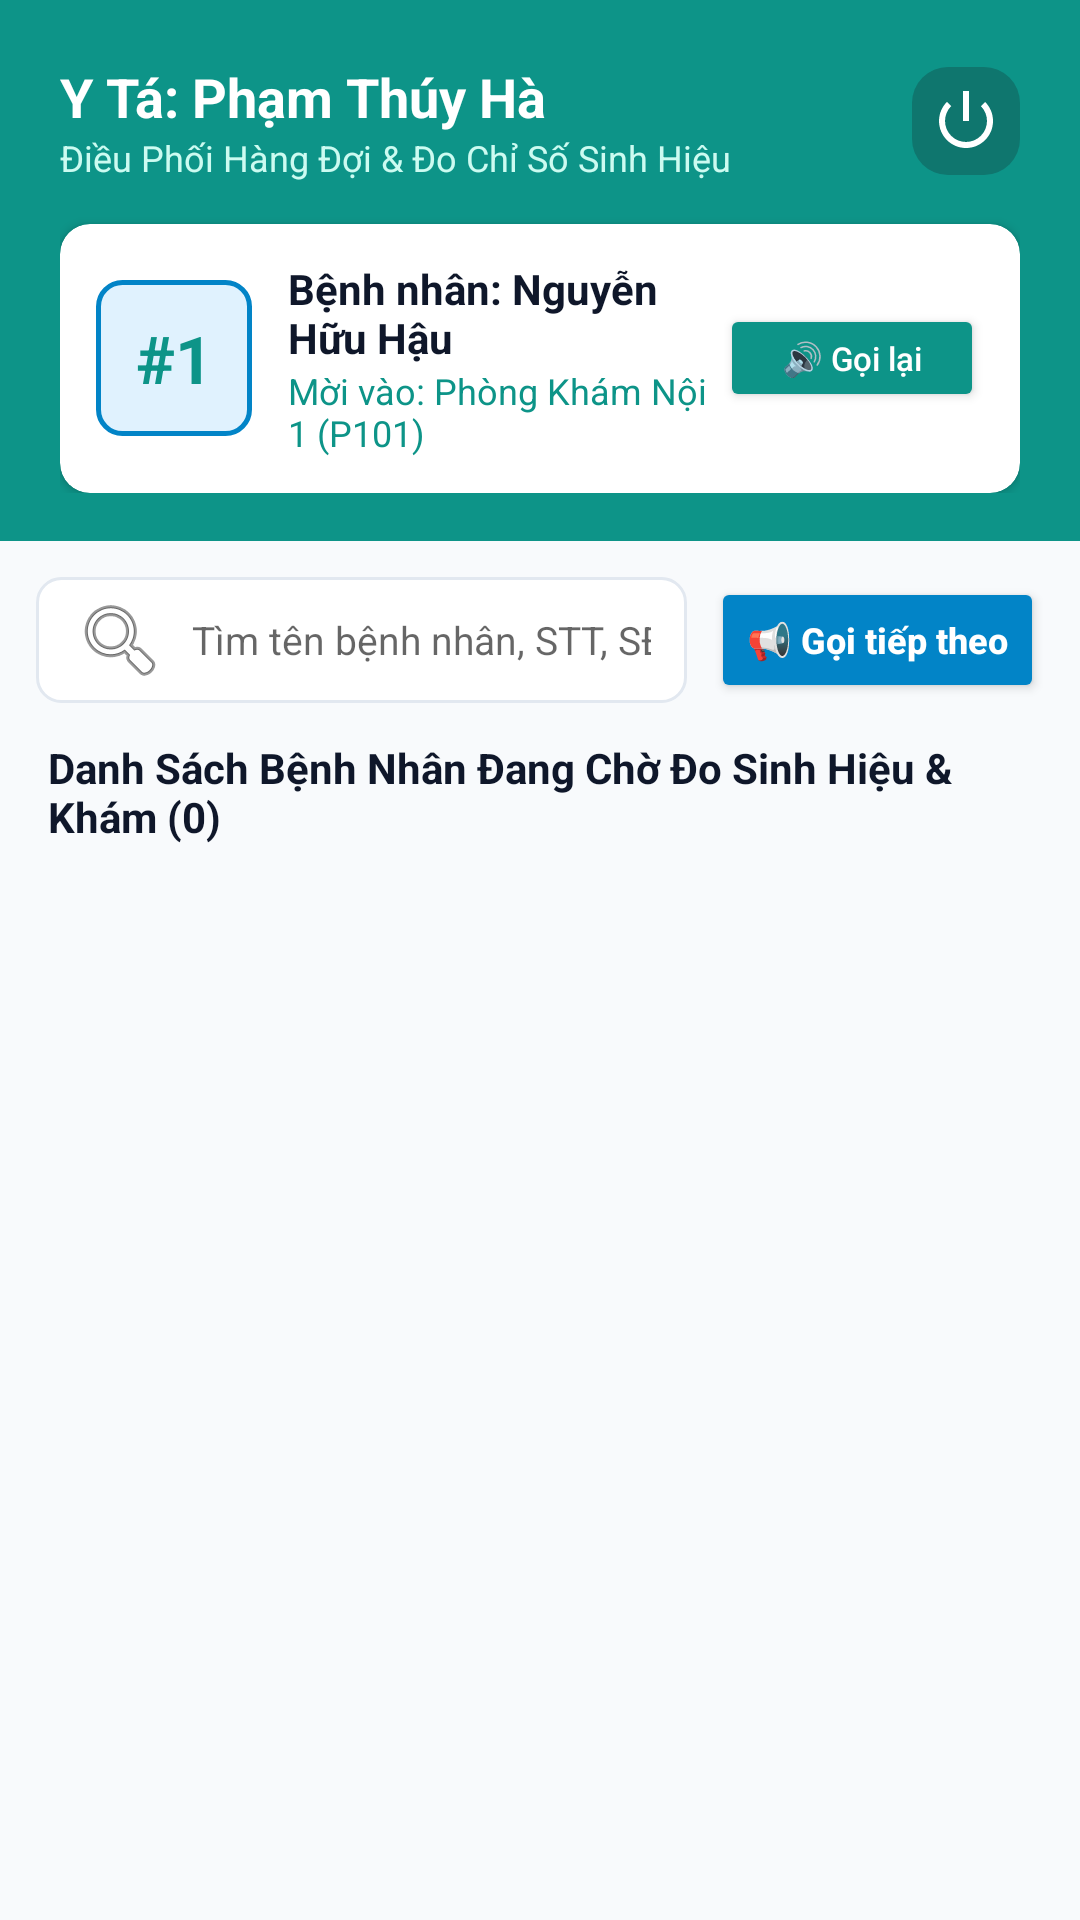

Icon bounding boxes for this 1080x1920 phone screenshot, format (x1, y1, x2, y2):
lock power off: (912, 67, 1020, 175)
